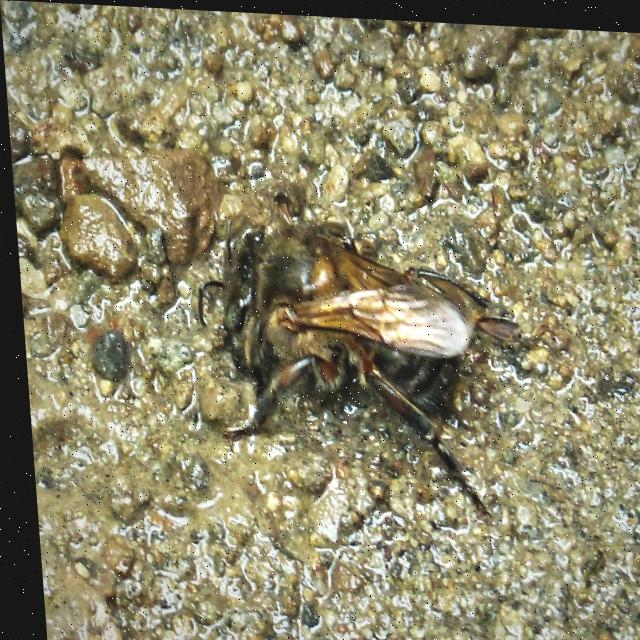Meliponula: (185, 200, 517, 496)
